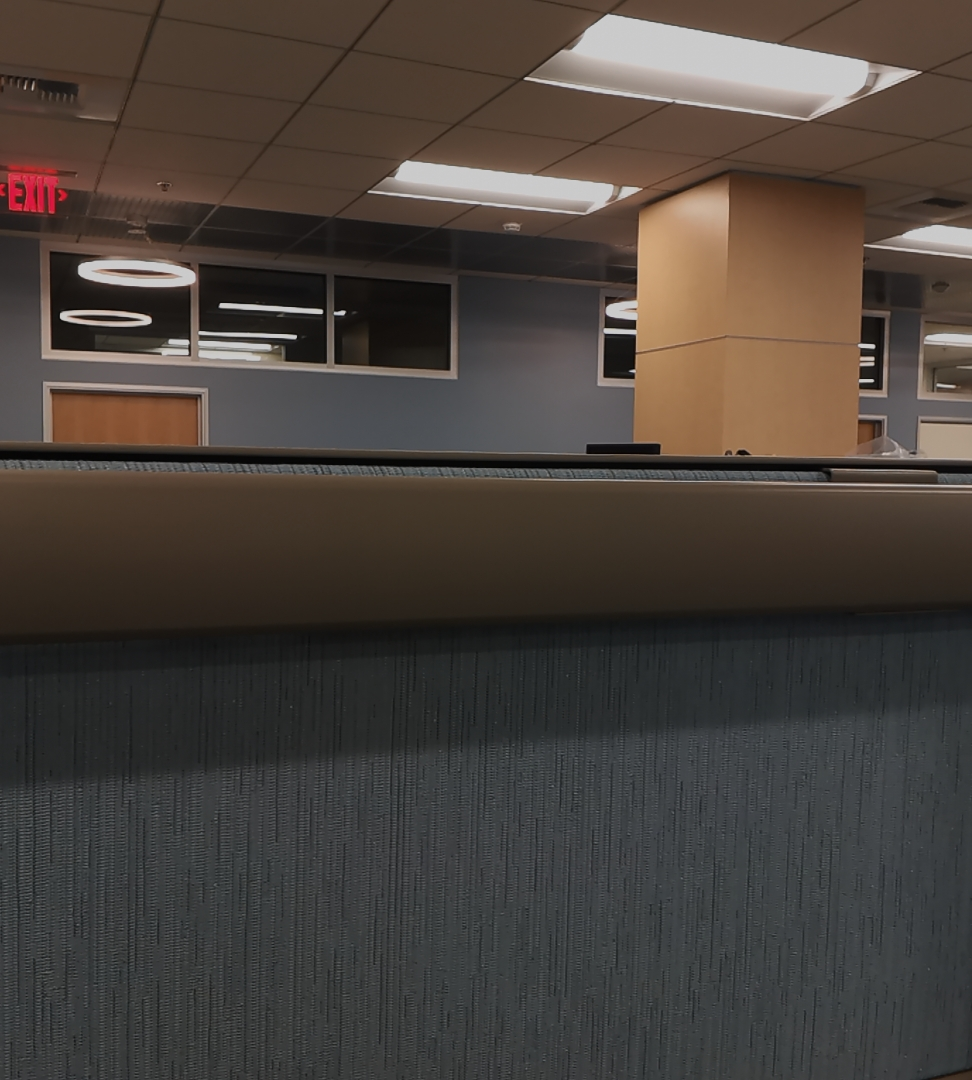emergency_exit: (1, 164, 71, 219)
